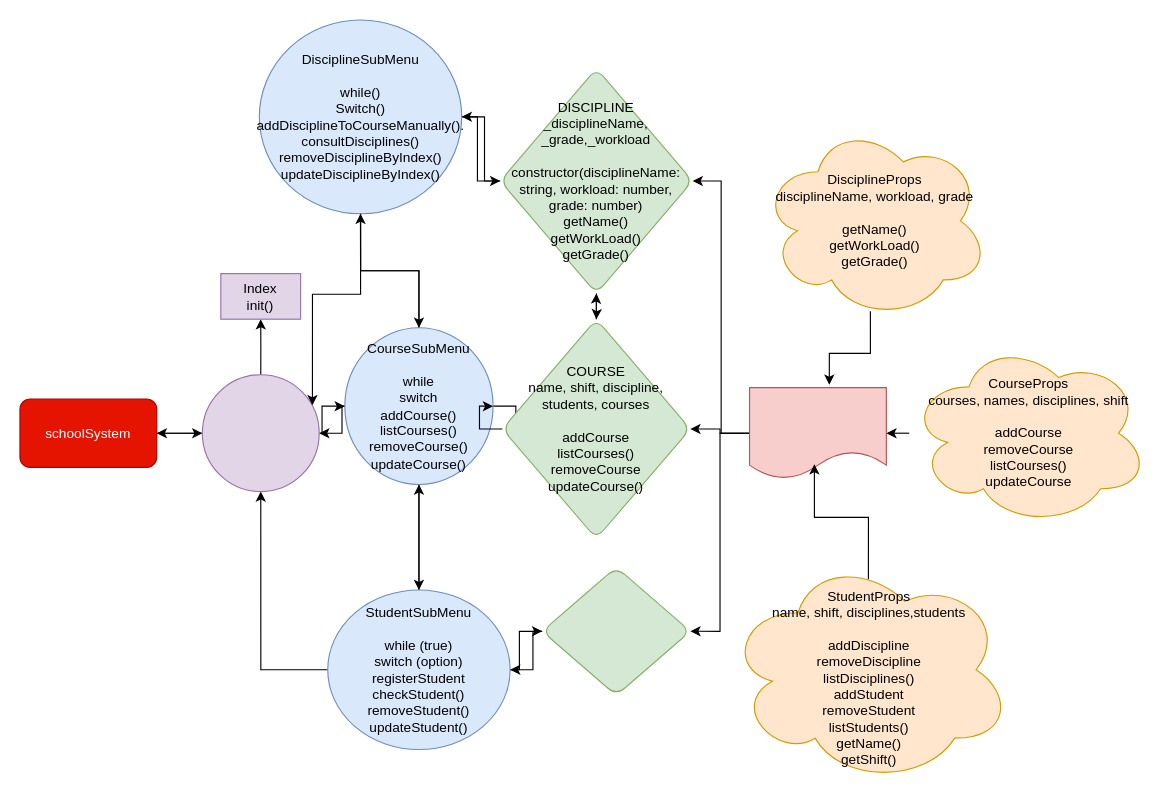
Image size: 1169x804. Some labels were removed from this diagram. The centre of each missing label's shape, as x and y in pixels:
Folder Interface: point 817,432
Menu init(): void showMenu(): string Menu.init();: point 260,433
STUDENT name, age, course, id removeStudent() updateStudent() addStudent(): point 615,630
